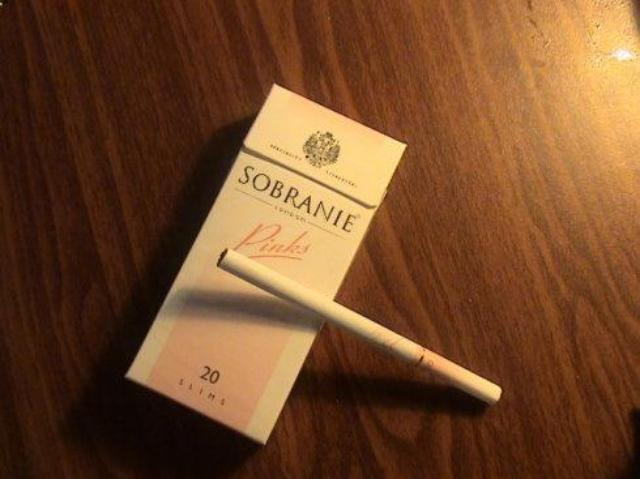Cigarette: (215, 249, 503, 406)
